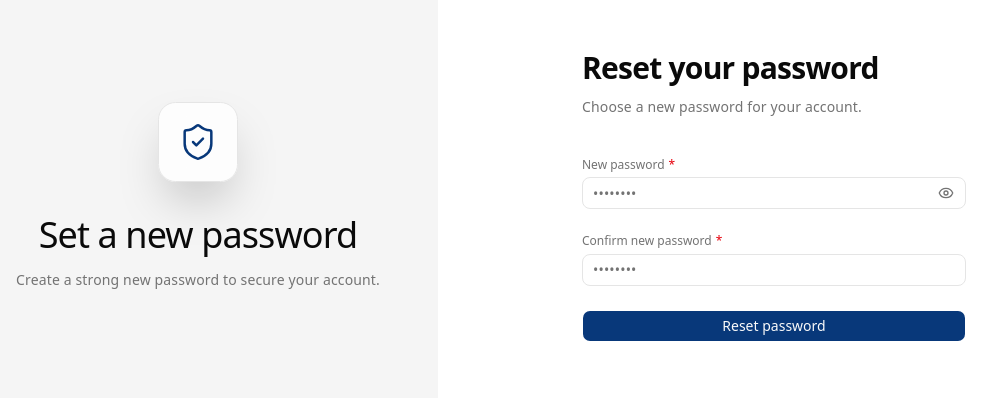
Test: ResetPasswordPage (S2) — integration (VT) › shows a banner for an expired token
Type "Password123" into the password field with id "reset-password" at coordinates (774, 193), box x1=582 y1=177 x2=966 y2=209
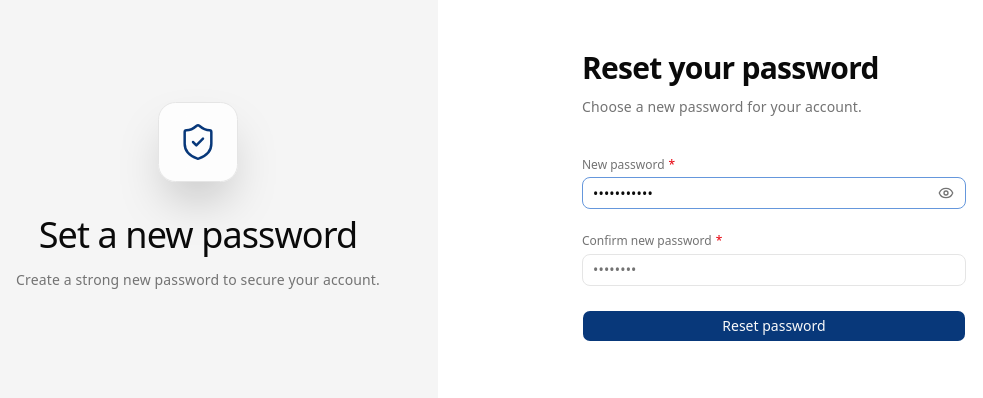
Type "Password123" into the password field with id "reset-password-confirmation" at coordinates (774, 270), box x1=582 y1=254 x2=966 y2=286
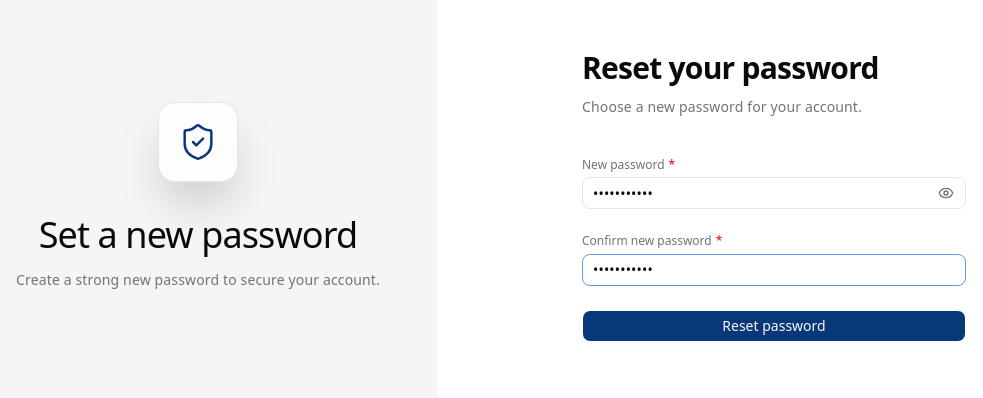
Click the button "Reset password" at coordinates (774, 326), box x1=582 y1=310 x2=966 y2=342
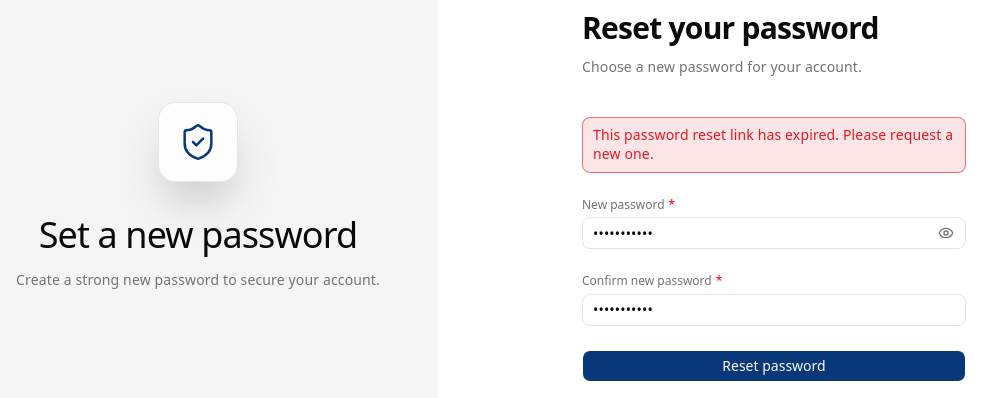
Result: the message with test id "reset-token-error" shows "expired" at x1=593 y1=125 x2=953 y2=163
